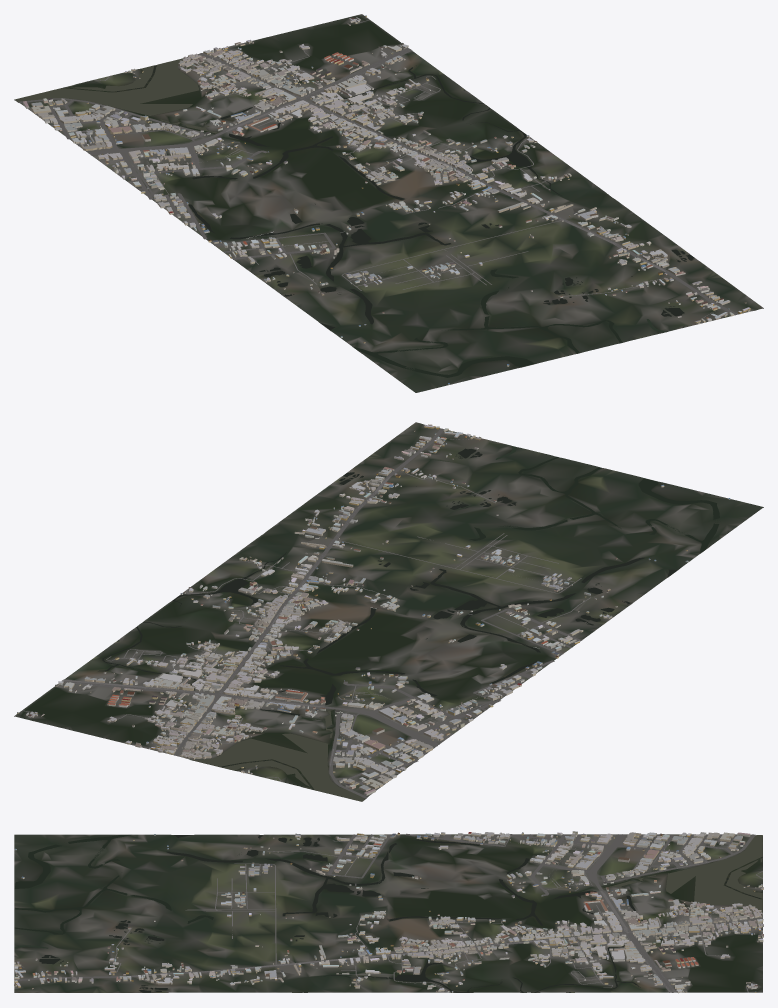
3 renders of one model, top to bottom at view 1: azimuth 30°, elevation 25°; view 2: azimuth 150°, elevation 25°; view 3: azimuth 270°, elevation 25°, orthographic. The views are drawn at different scales.
Visible parts, largest first — view 1: ground, buildings, water, roads; view 2: ground, buildings, water, roads; view 3: ground, buildings, water, roads.
Part boxes in pixels (x1,y1,x2,y2): ground: (14,14,763,392); buildings: (23,15,750,384); water: (14,58,694,377); roads: (18,19,737,319); ground: (14,422,763,801); buildings: (17,424,730,795); water: (98,446,719,801); roads: (22,428,590,798); ground: (14,834,762,992); buildings: (14,831,763,993); water: (14,834,762,992); roads: (14,833,763,992).
Size of the model in its own units: 1412 by 24.33 by 2807.
